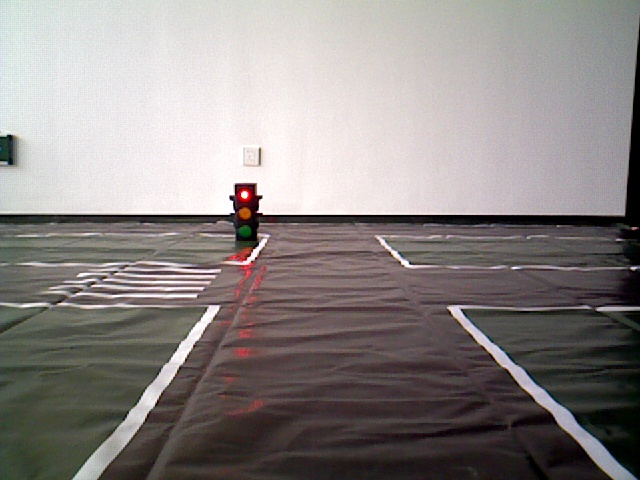red: (233, 186, 256, 237)
